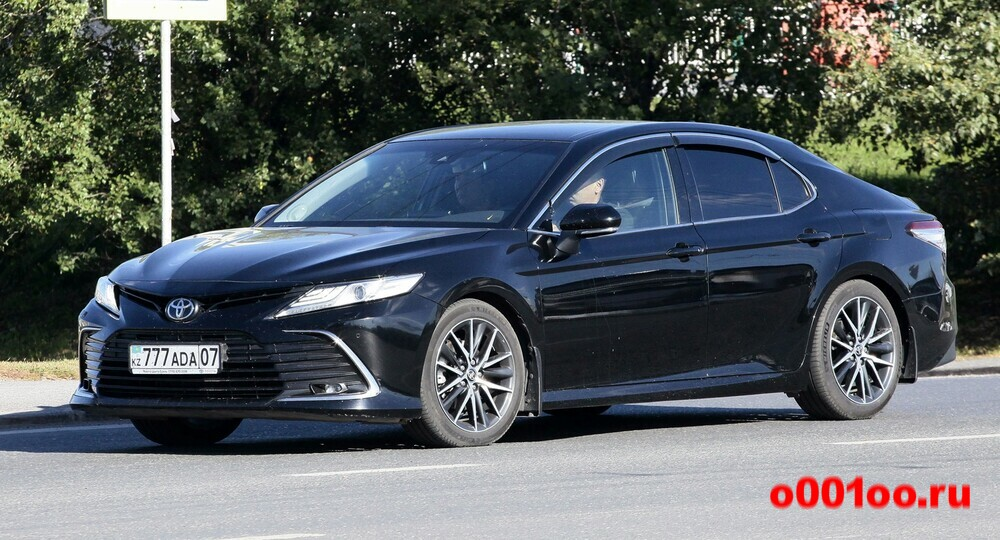license_plate: (125, 345, 222, 374)
